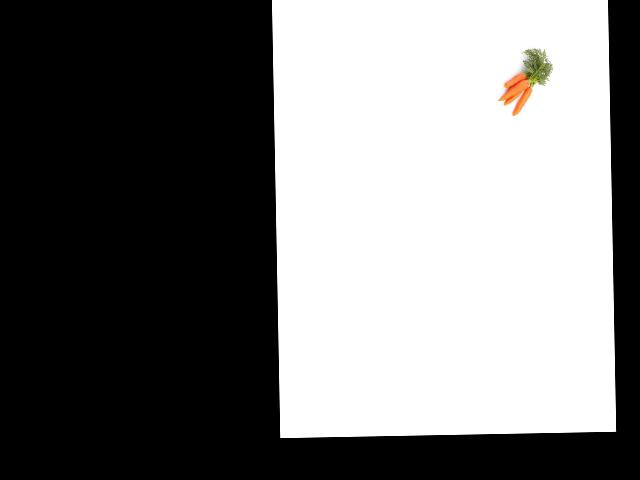carrot: (503, 71, 526, 85)
